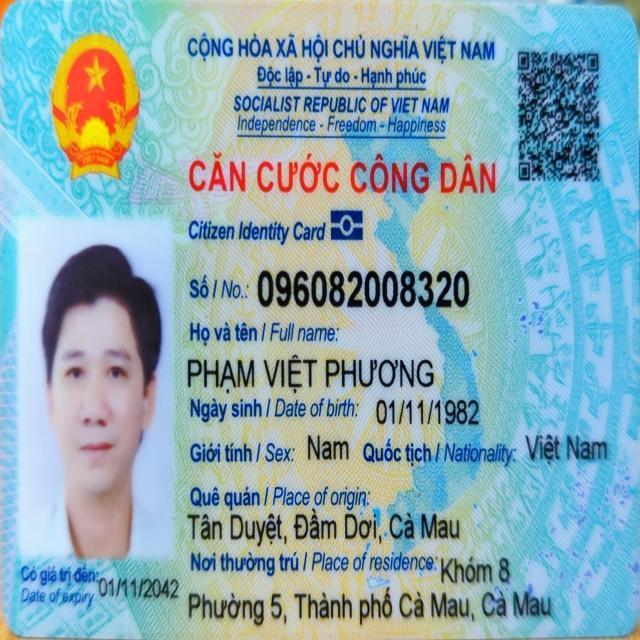current_place: (187, 578, 558, 623), (436, 552, 520, 591)
dob: (371, 392, 488, 436)
expire_date: (97, 573, 182, 604)
gender: (300, 423, 355, 468)
id: (254, 260, 473, 320)
name: (179, 346, 438, 393)
nationality: (523, 420, 612, 479)
origin_place: (183, 508, 468, 548)
